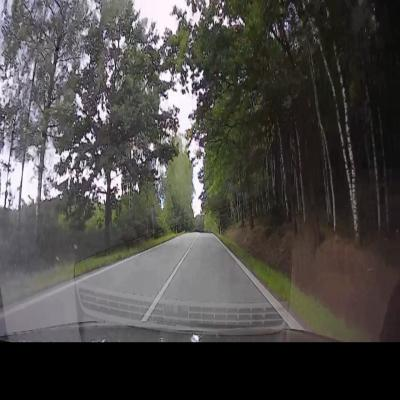clear-road: (76, 233, 197, 304), (162, 233, 267, 302)
